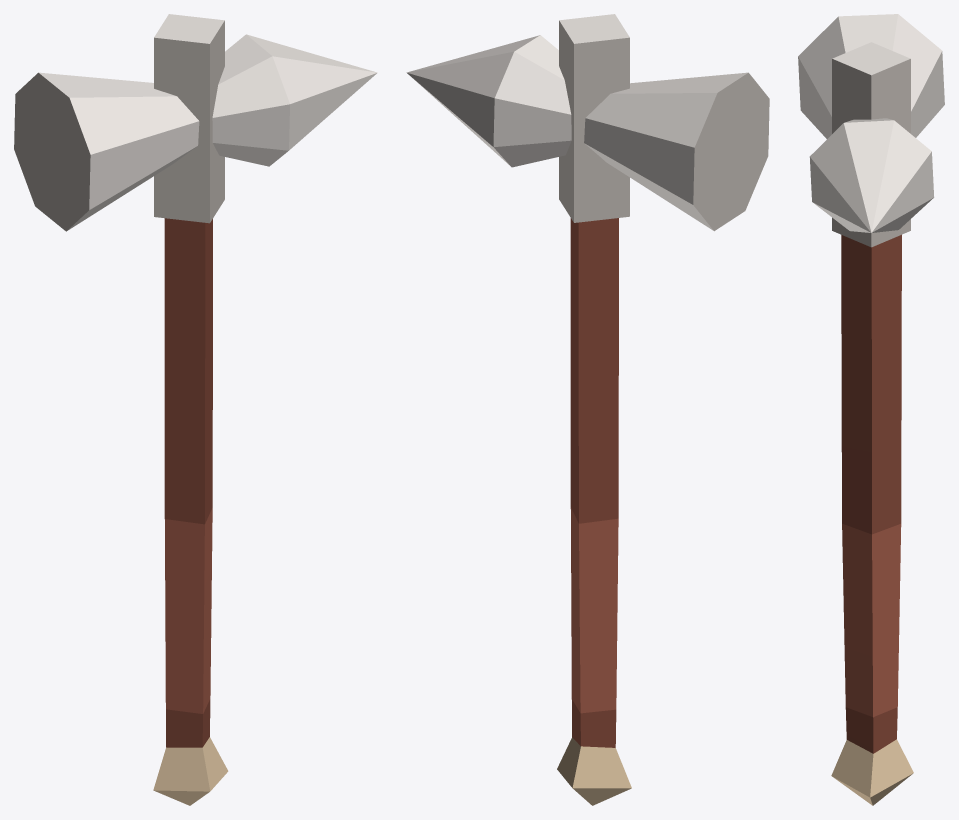
File: hammer_3.glb
The picture shows the model from 3 angles, left to right: view 1: azimuth 30°, elevation 25°; view 2: azimuth 150°, elevation 25°; view 3: azimuth 270°, elevation 25°; orthographic projection. The views are drawn at different scales.
Visible parts, largest first — view 1: hammer_3.001; view 2: hammer_3.001; view 3: hammer_3.001.
Boxes of the visible parts, box(x1,y1,x2,y2) form: hammer_3.001: box(14, 14, 377, 805); hammer_3.001: box(406, 14, 769, 805); hammer_3.001: box(798, 14, 944, 805).
Size of the model in its own units: 0.4381 by 1 by 0.1783.
Materials: 1 (1 with a texture image).
